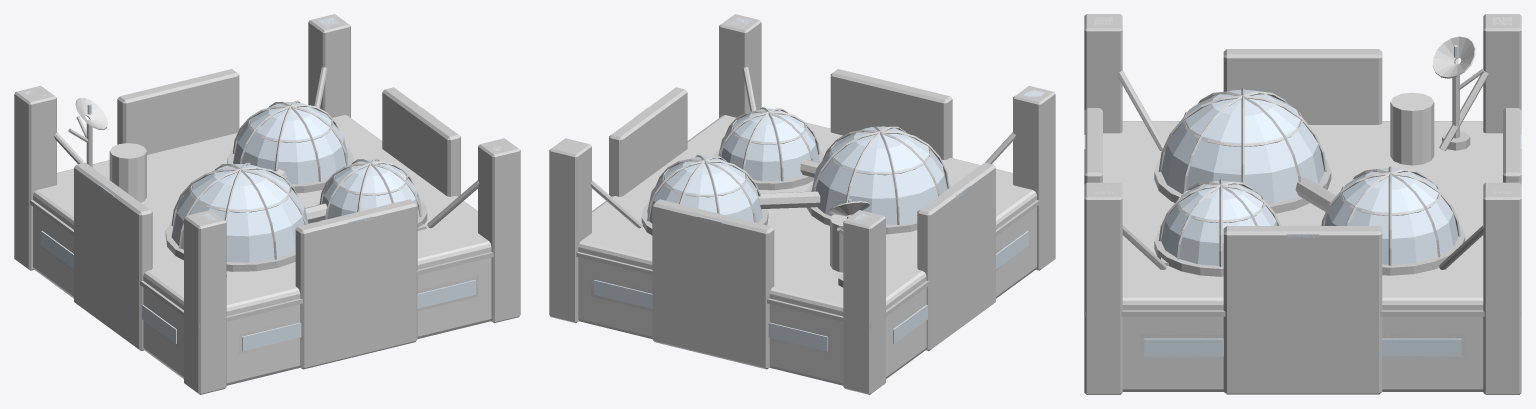
File: SM_StationModule_BiologyLab_01.fbx
The picture shows the model from 3 angles, left to right: view 1: azimuth 30°, elevation 25°; view 2: azimuth 150°, elevation 25°; view 3: azimuth 270°, elevation 25°; orthographic projection. The views are drawn at different scales.
Visible parts, largest first — view 1: SM_StationModule_BiologyLab_01; view 2: SM_StationModule_BiologyLab_01; view 3: SM_StationModule_BiologyLab_01.
Boxes of the visible parts, left/top/right/bottom form: SM_StationModule_BiologyLab_01: left=14, top=14, right=520, bottom=394; SM_StationModule_BiologyLab_01: left=549, top=14, right=1055, bottom=394; SM_StationModule_BiologyLab_01: left=1084, top=14, right=1521, bottom=394.
Size of what is drawn, in the model's own units: 800 by 800 by 400.
